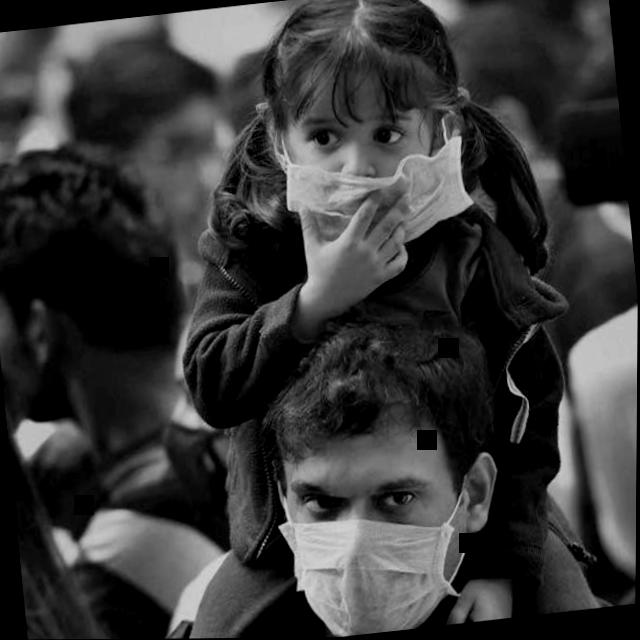Mask: (235, 295, 521, 639), (234, 0, 484, 259)
